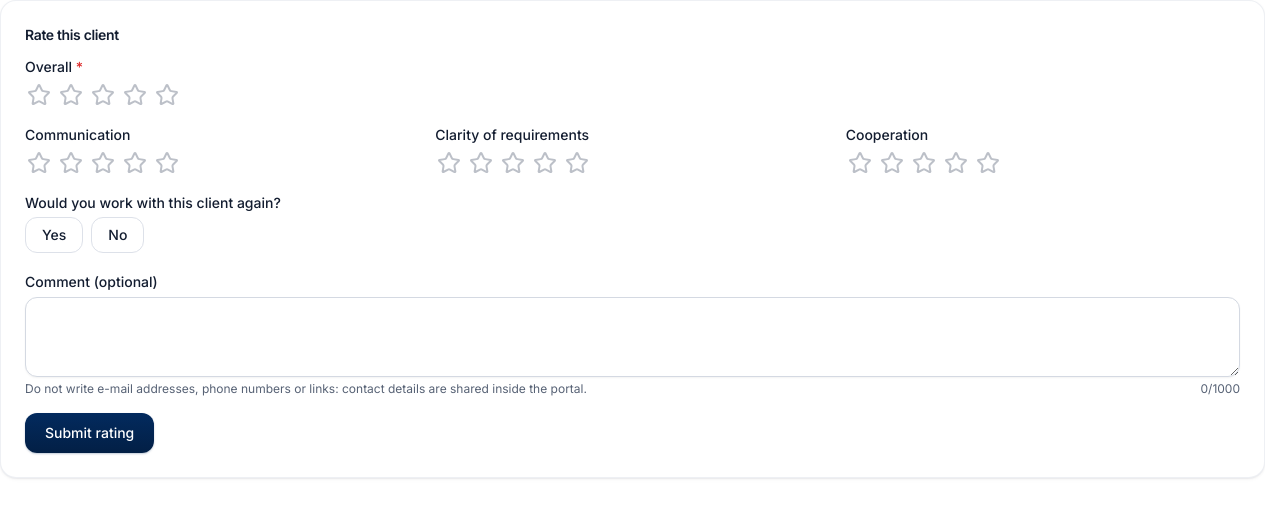
Test: RateClientCard › requires the overall score
The image size is (1280, 528).
What coordinates should you click on to do the following:
click the button "Submit rating"
I would click on:
 (90, 433)
Its box is [25,413,154,453].
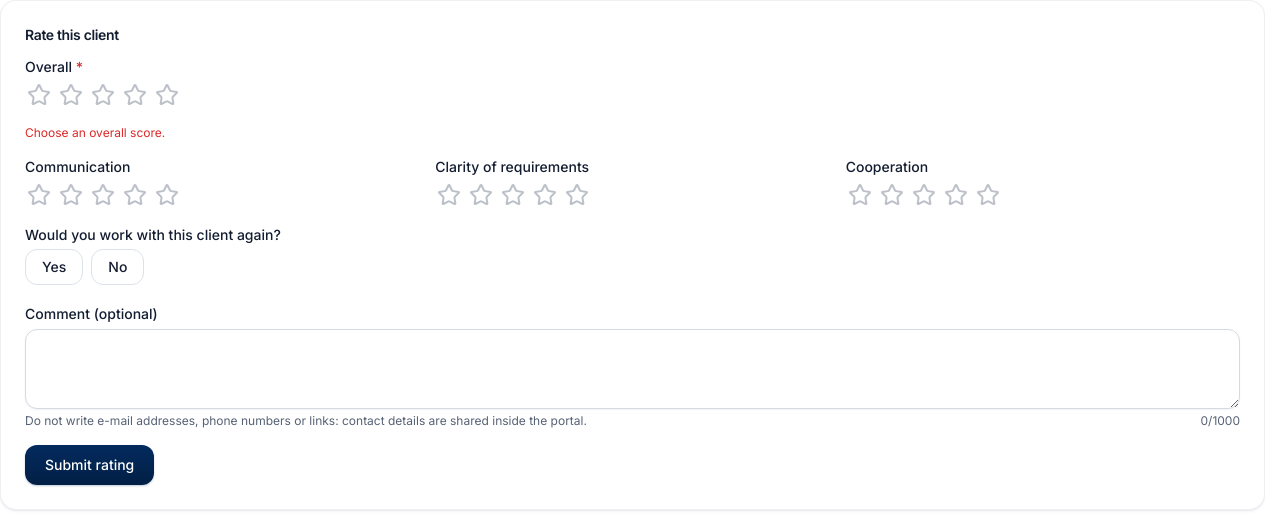
Result: the message "Choose an overall score." is shown at [25,125,165,140]
